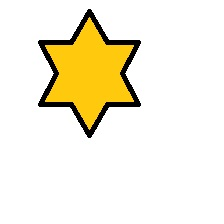star: (38, 9, 141, 138)
